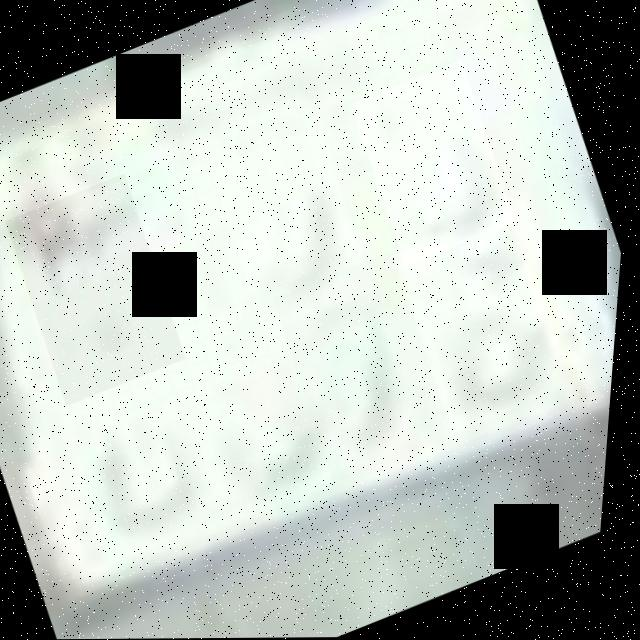0: (47, 348, 251, 570)
5: (390, 201, 601, 433)
J: (267, 251, 470, 484), (202, 125, 388, 336)
O: (343, 60, 528, 267)
P: (0, 173, 202, 406)
